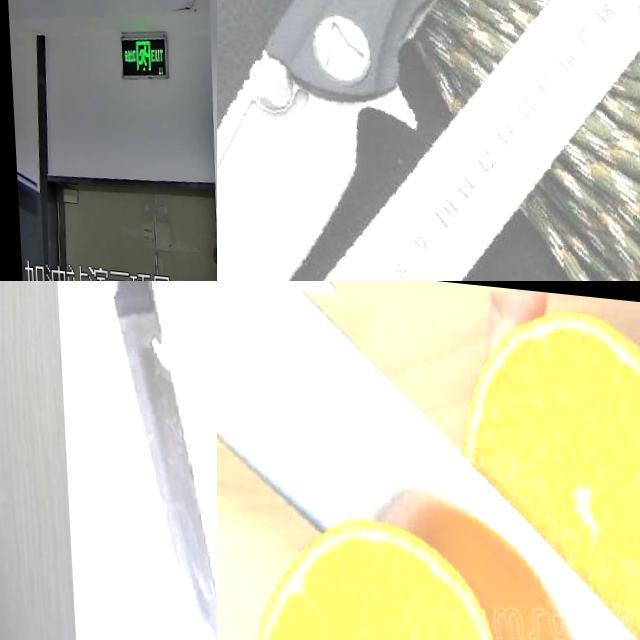-: (217, 281, 640, 640), (217, 0, 640, 281), (48, 281, 217, 640)
